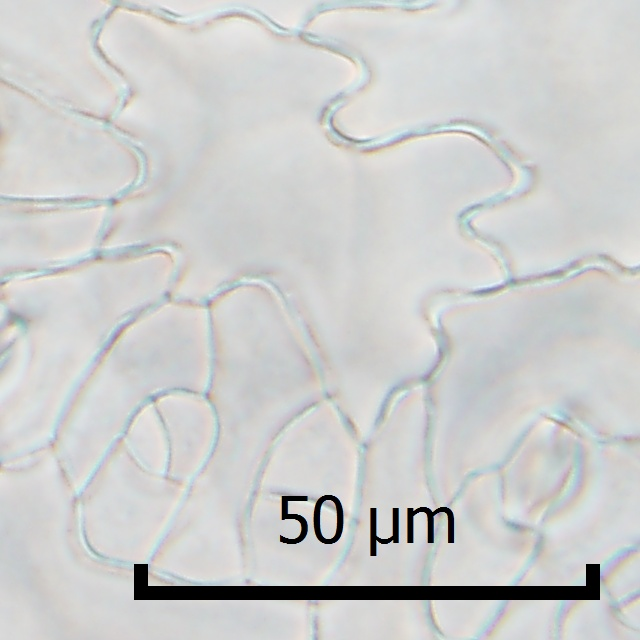center: (602, 589, 640, 594), (0, 349, 38, 353)
stomata-huw1: (0, 301, 30, 401), (605, 548, 639, 635)
